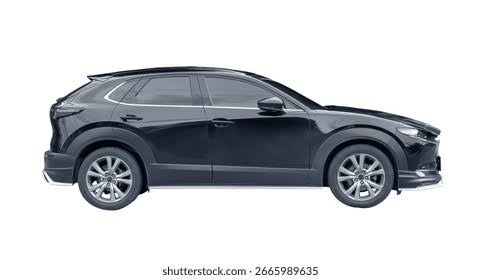car: (36, 67, 454, 208)
